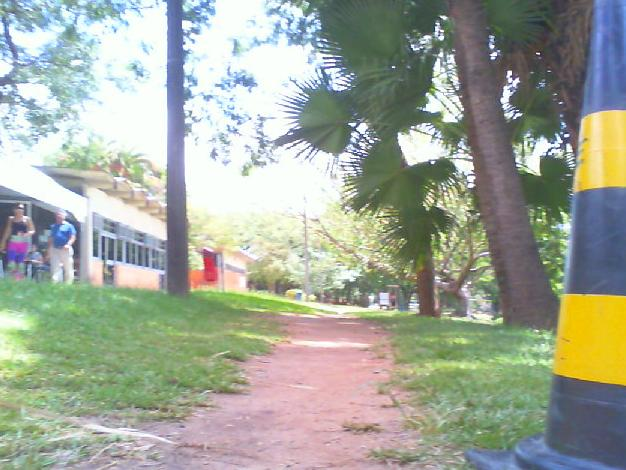0 cone: (465, 0, 626, 470)
